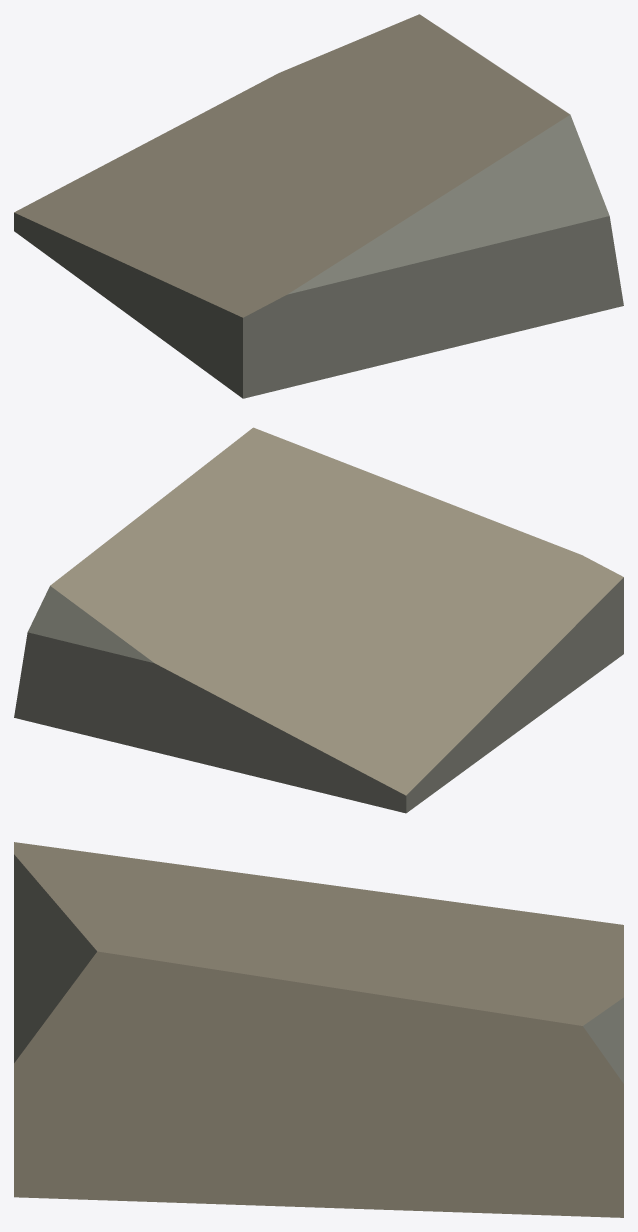
3 views of the same model, one above another, from view 1: azimuth 30°, elevation 25°; view 2: azimuth 150°, elevation 25°; view 3: azimuth 270°, elevation 25° (orthographic). The views are drawn at different scales.
Parts seen in each view (by area): view 1: concreto_quebra_1; view 2: concreto_quebra_1; view 3: concreto_quebra_1.
Boxes of the visible parts, bbox=[...] form: concreto_quebra_1: bbox=[14, 14, 623, 398]; concreto_quebra_1: bbox=[14, 427, 623, 813]; concreto_quebra_1: bbox=[14, 842, 623, 1217].
Size of the model in its own units: 0.832 by 0.3349 by 0.8.
Materials: 1 (1 with a texture image).
